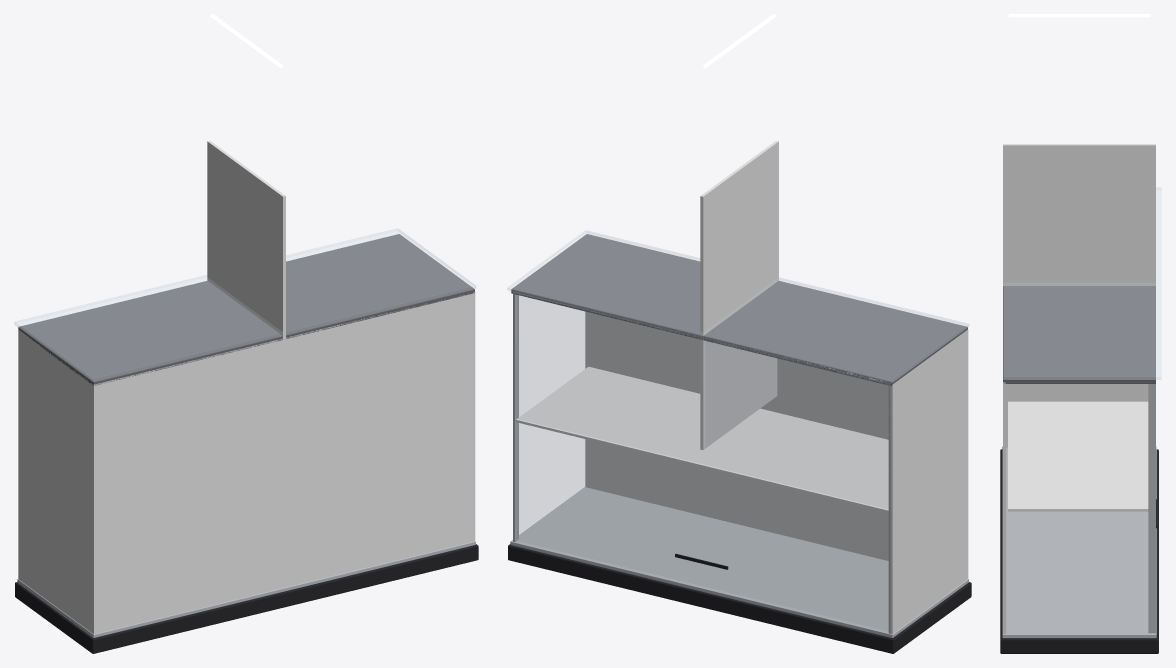
Rendered from luxury_glass_info_counter.glb.
3 views of the same model, side by side, from view 1: azimuth 30°, elevation 25°; view 2: azimuth 150°, elevation 25°; view 3: azimuth 270°, elevation 25° (orthographic).
Visible parts, largest first — view 1: Body_BackPanel, Glass_Top, Top_MetalBand, Body_LeftPanel, Body_RightPanel, Base_Pedestal, Bot_MetalBand; view 2: Front_Glass, Body_BackPanel, Glass_Top, Top_MetalBand, Bot_MetalBand, Inner_Shelf, Body_LeftPanel, Body_RightPanel, Base_Pedestal, Frame_FrR, Frame_FrTop, Frame_FrL; view 3: Body_RightPanel, Bot_MetalBand, Glass_Top, Inner_Shelf, Top_MetalBand, Base_Pedestal, Frame_FrR, Body_BackPanel, LED_Right.
Part boxes in pixels (x1=…): Body_BackPanel: x1=92, y1=292, x2=475, y2=633; Glass_Top: x1=14, y1=228, x2=475, y2=381; Top_MetalBand: x1=18, y1=234, x2=474, y2=385; Body_LeftPanel: x1=18, y1=329, x2=96, y2=633; Body_RightPanel: x1=207, y1=141, x2=285, y2=449; Base_Pedestal: x1=15, y1=544, x2=478, y2=653; Bot_MetalBand: x1=17, y1=541, x2=475, y2=637; Front_Glass: x1=515, y1=294, x2=888, y2=631; Body_BackPanel: x1=585, y1=311, x2=968, y2=579; Glass_Top: x1=507, y1=230, x2=968, y2=383; Top_MetalBand: x1=511, y1=234, x2=967, y2=385; Bot_MetalBand: x1=510, y1=487, x2=968, y2=637; Inner_Shelf: x1=516, y1=366, x2=888, y2=512; Body_LeftPanel: x1=889, y1=330, x2=968, y2=634; Body_RightPanel: x1=700, y1=140, x2=778, y2=449; Base_Pedestal: x1=508, y1=544, x2=971, y2=653; Frame_FrR: x1=513, y1=292, x2=518, y2=541; Frame_FrTop: x1=513, y1=291, x2=890, y2=385; Frame_FrL: x1=888, y1=383, x2=890, y2=633; Body_RightPanel: x1=1003, y1=144, x2=1155, y2=401; Bot_MetalBand: x1=1002, y1=446, x2=1156, y2=638; Glass_Top: x1=1003, y1=187, x2=1161, y2=379; Inner_Shelf: x1=1008, y1=401, x2=1148, y2=511; Top_MetalBand: x1=1003, y1=286, x2=1155, y2=383; Base_Pedestal: x1=1000, y1=449, x2=1158, y2=653; Frame_FrR: x1=1148, y1=384, x2=1155, y2=633; Body_BackPanel: x1=1003, y1=382, x2=1006, y2=634; LED_Right: x1=1008, y1=14, x2=1150, y2=17.
Bounding box in the file's own units: 1.62 × 2.16 × 0.58.
